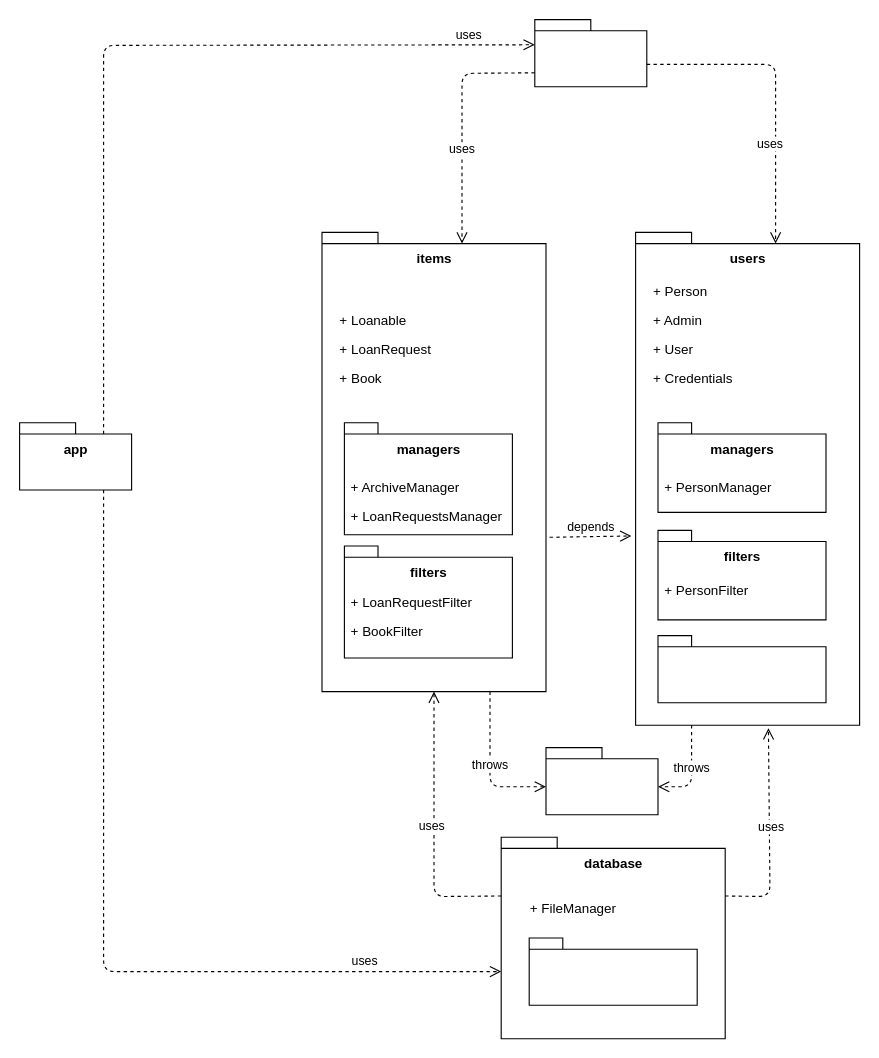
This 879x1058 diagram has some shape labels left out. The centre of each missing label's shape, as x and y in pixels:
"exceptions" goes at [601,780].
"gsonAdapters" goes at [612,971].
"GUI" goes at [590,52].
"sanctions" goes at [741,668].
